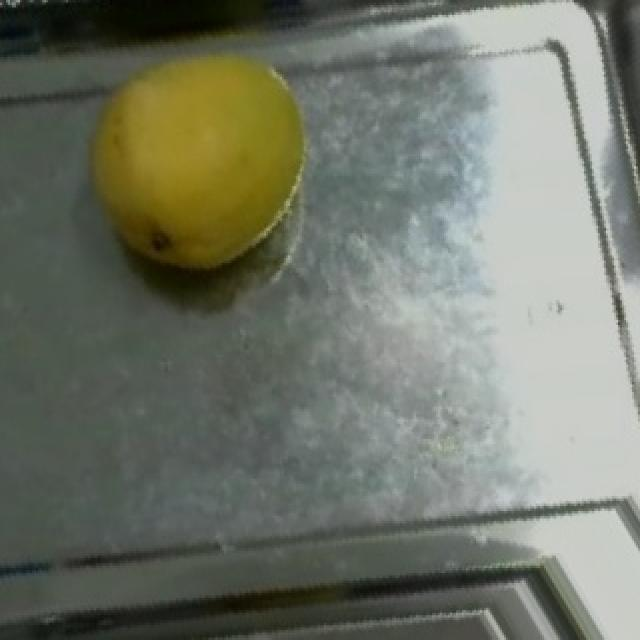fruit: (58, 12, 344, 300)
